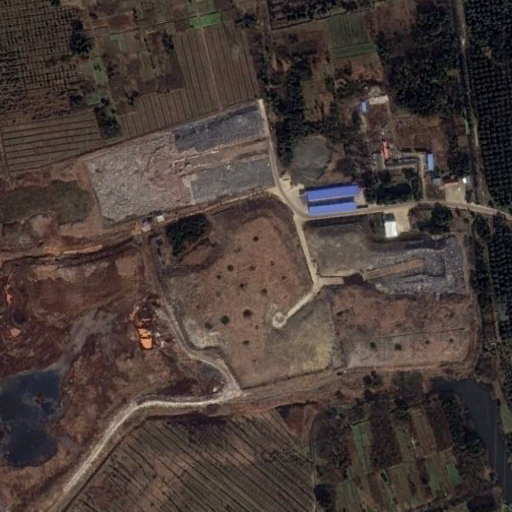lf: (80, 102, 279, 220)
